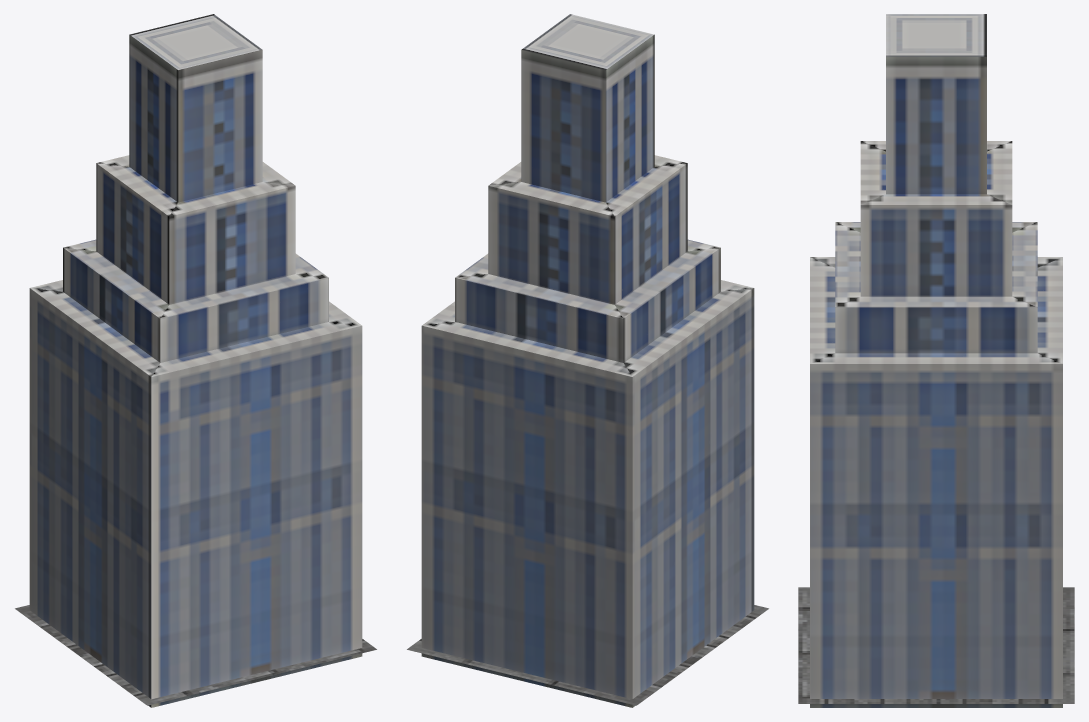
Rendered from Skyscraper_01.obj.
3 views of the same model, side by side, from view 1: azimuth 30°, elevation 25°; view 2: azimuth 150°, elevation 25°; view 3: azimuth 270°, elevation 25° (orthographic). The views are drawn at different scales.
Visible parts, largest first — view 1: Box001, Tile; view 2: Box001, Tile; view 3: Box001, Tile.
Part boxes in pixels (left/top/right/bottom): Box001: left=29, top=14, right=362, bottom=707; Tile: left=15, top=605, right=376, bottom=705; Box001: left=421, top=14, right=754, bottom=707; Tile: left=407, top=605, right=768, bottom=705; Box001: left=810, top=14, right=1062, bottom=707; Tile: left=798, top=587, right=1074, bottom=703.
Size of the model in its own units: 128 by 317 by 128.
